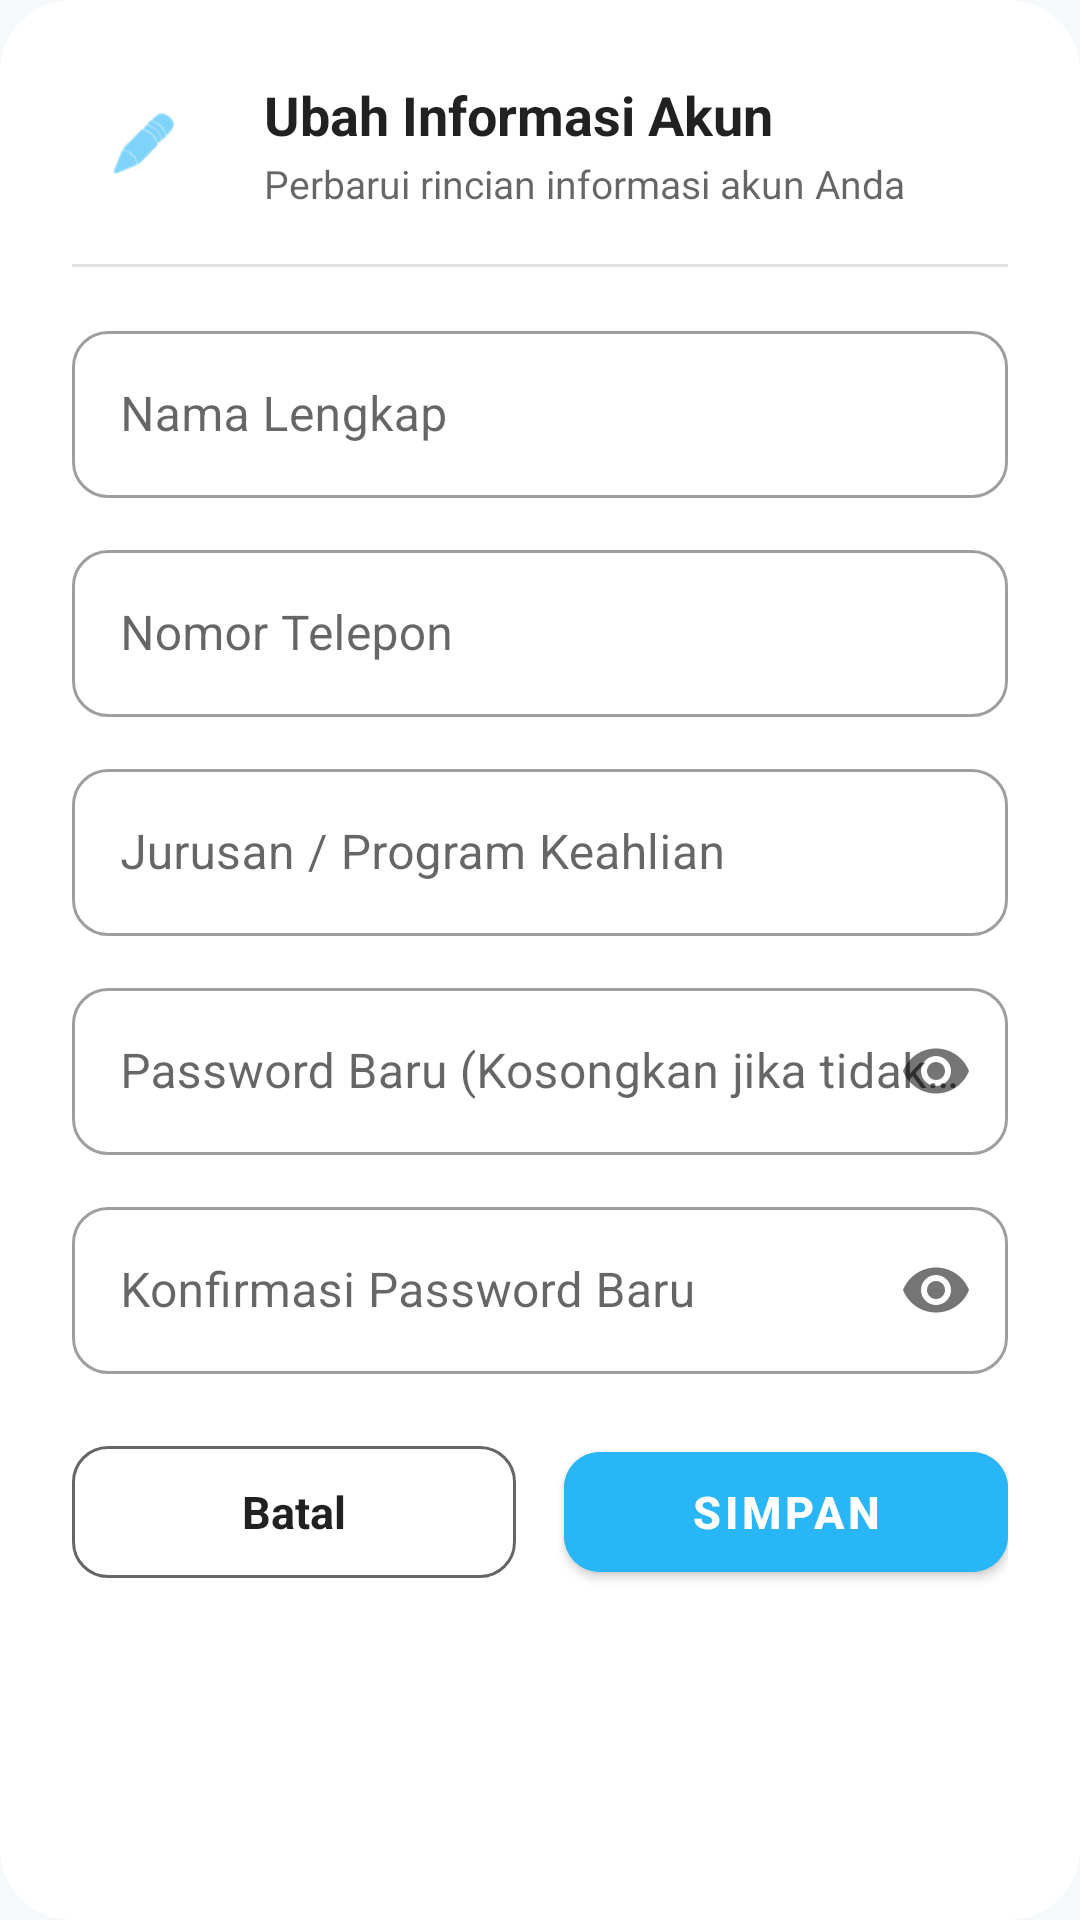

Screen size 1080w x 1920h. Icon name, then its center in pixels as point (x, y):
edit: point (143, 143)
